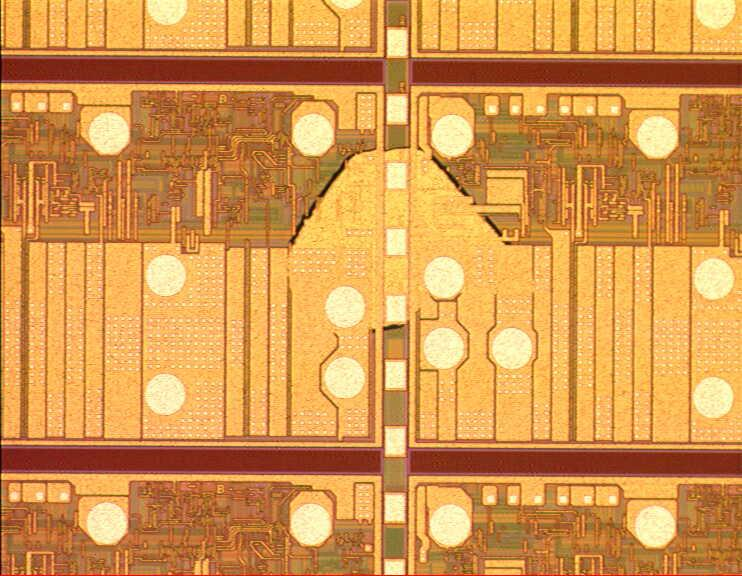BLOCK ETCH: (279, 144, 524, 335)
